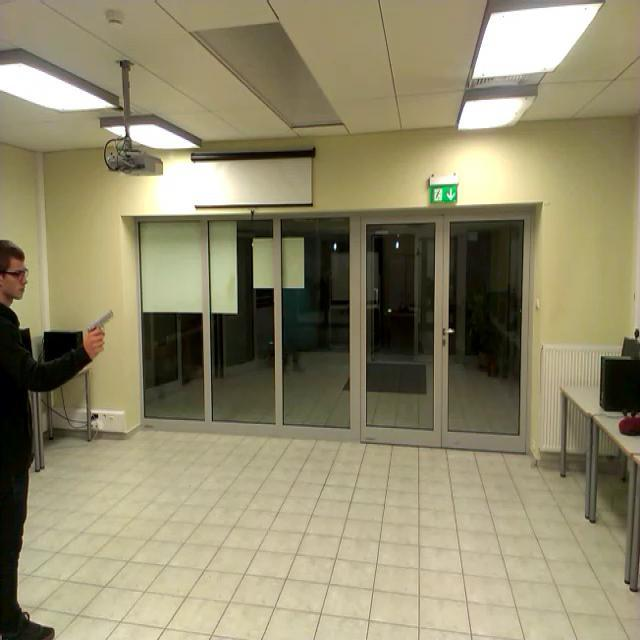Gun: (86, 308, 112, 350)
